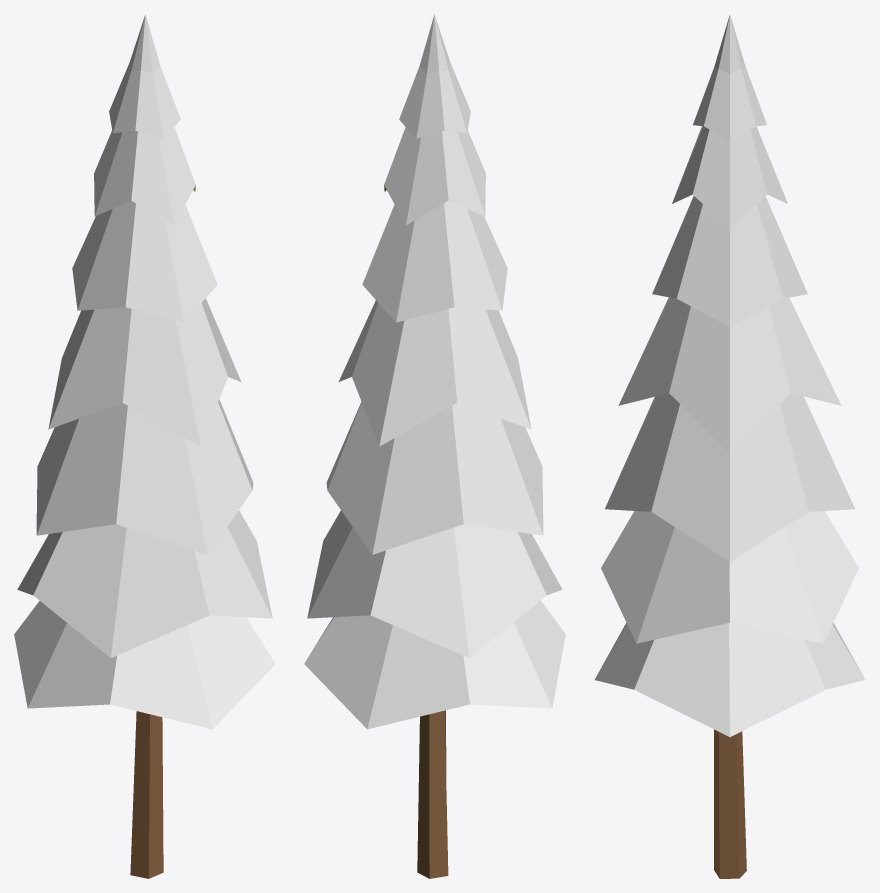
The model's file is Pine_Tree_l_Snow_03.fbx.
3 renders of one model, left to right at view 1: azimuth 30°, elevation 25°; view 2: azimuth 150°, elevation 25°; view 3: azimuth 270°, elevation 25°, orthographic.
Visible parts, largest first — view 1: Pine_Tree_l_Snow_03; view 2: Pine_Tree_l_Snow_03; view 3: Pine_Tree_l_Snow_03.
Boxes of the visible parts, x1=… form: Pine_Tree_l_Snow_03: x1=14, y1=14, x2=275, y2=878; Pine_Tree_l_Snow_03: x1=304, y1=14, x2=565, y2=878; Pine_Tree_l_Snow_03: x1=594, y1=15, x2=865, y2=878.
Size of the model in its own units: 558 by 1950 by 558.
